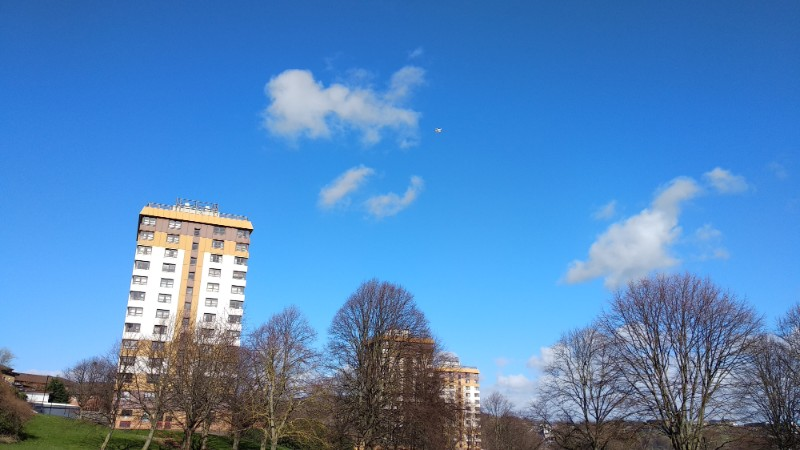drone: (433, 125, 445, 136)
